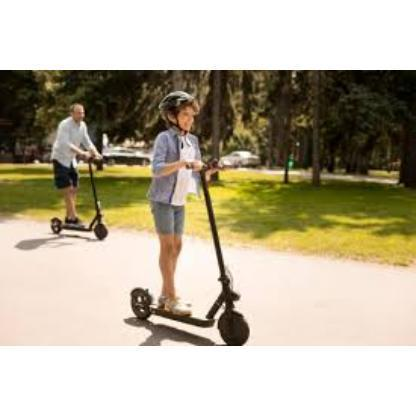with scooter: (130, 91, 250, 347), (50, 103, 109, 240)
